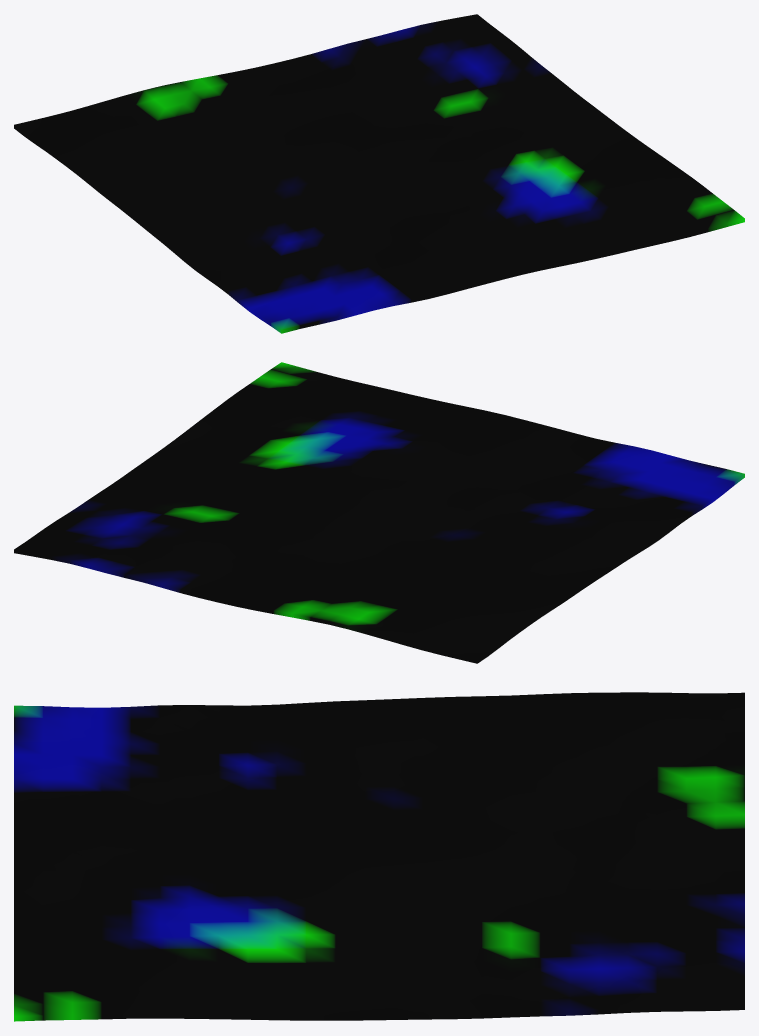
Rendered from coast_14_7.glb.
3 views of the same model, one above another, from view 1: azimuth 30°, elevation 25°; view 2: azimuth 150°, elevation 25°; view 3: azimuth 270°, elevation 25° (orthographic). The views are drawn at different scales.
Visible parts, largest first — view 1: terrain; view 2: terrain; view 3: terrain.
Part boxes in pixels (x1,y1,x2,y2): terrain: (14,14,744,333); terrain: (14,362,744,663); terrain: (14,692,744,1021).
Bounding box in the file's own units: 200 × 7.81 × 200.
